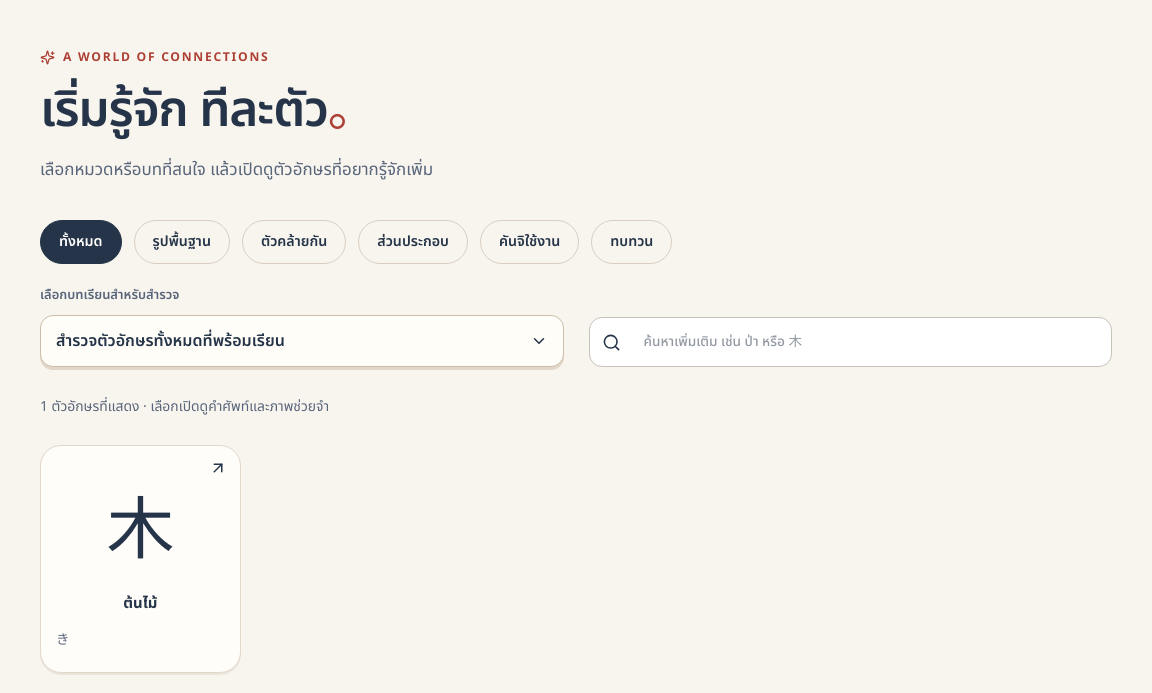
it: does not display all Kanji when an explorer category has no chapters
Expected: the number of elements with class "explorer-tile" is 1, [40,445,241,673]
Step 1. Click the button "ทบทวน" → (632, 242), box [591,220,672,264]
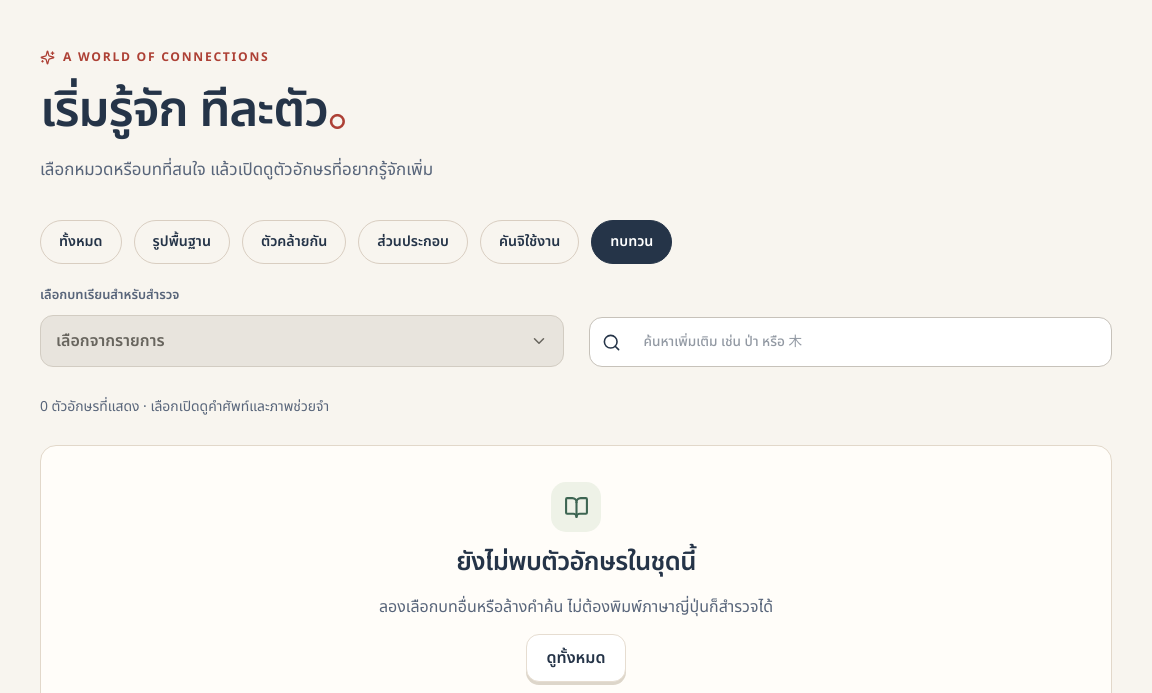
Now the heading "ยังไม่พบตัวอักษรในชุดนี้" is shown, box [456,543,696,582]
Now no elements with class "explorer-tile" are shown
